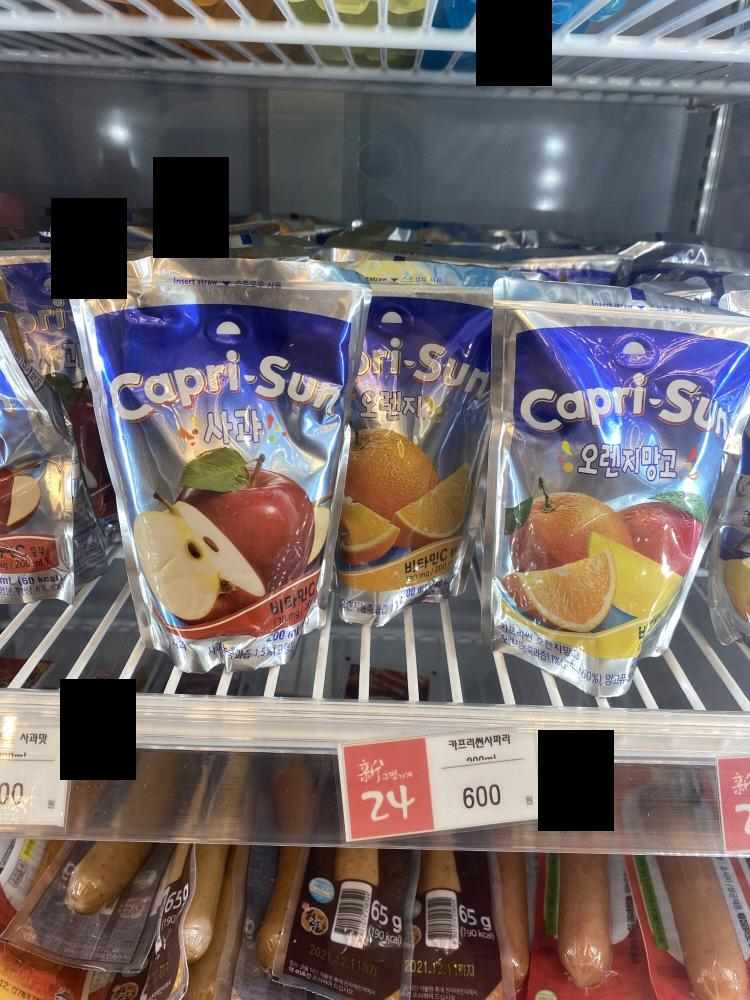cafrisun: (63, 263, 350, 688), (488, 270, 749, 688)
